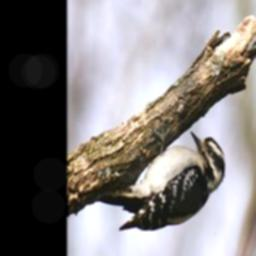Woodpecker: (96, 127, 233, 240)
